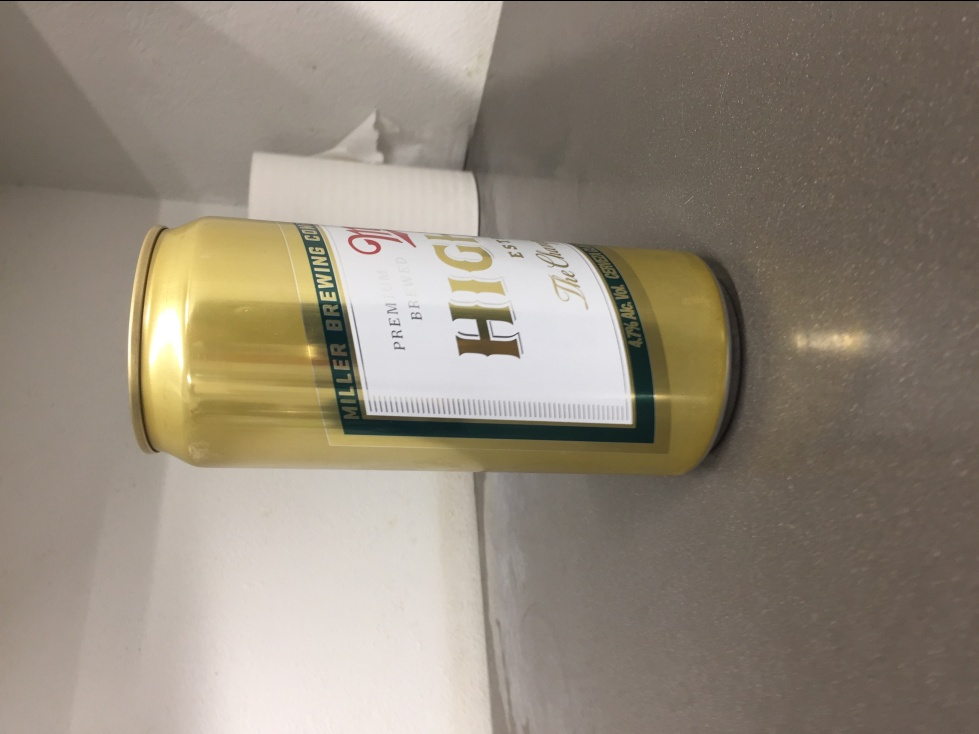miller: (124, 213, 741, 480)
